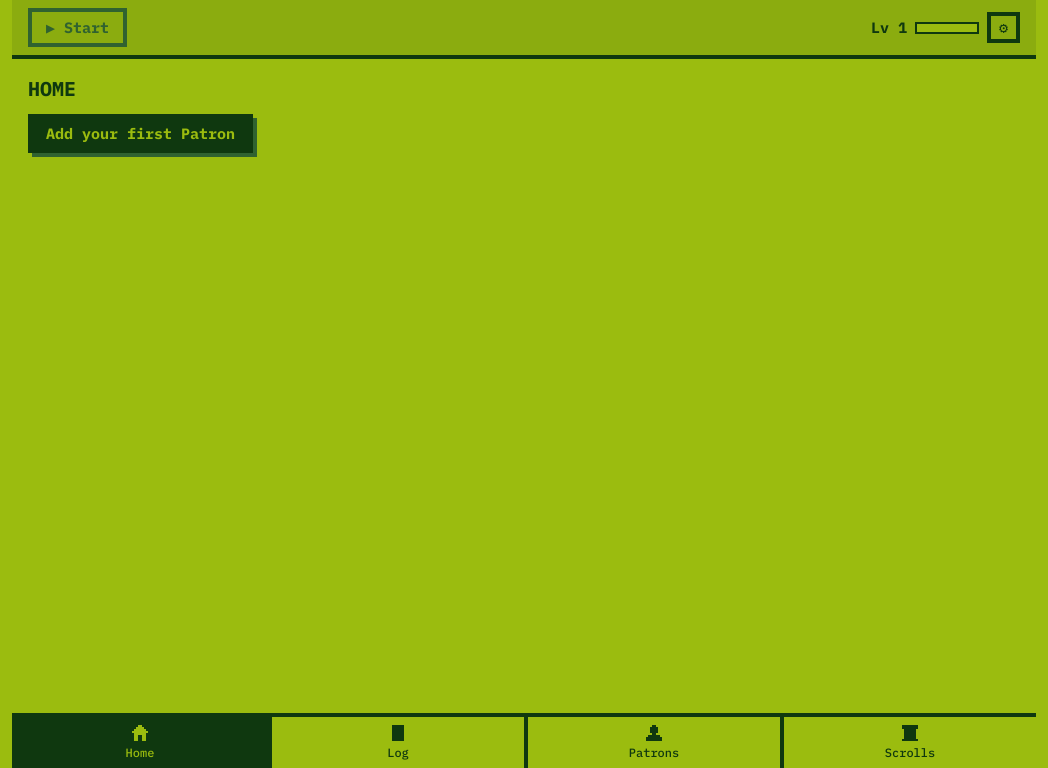
Settings › opens from the HUD gear as a pushed screen with Back
Click the button named "Settings".
click(1004, 28)  # box [987,12,1020,43]
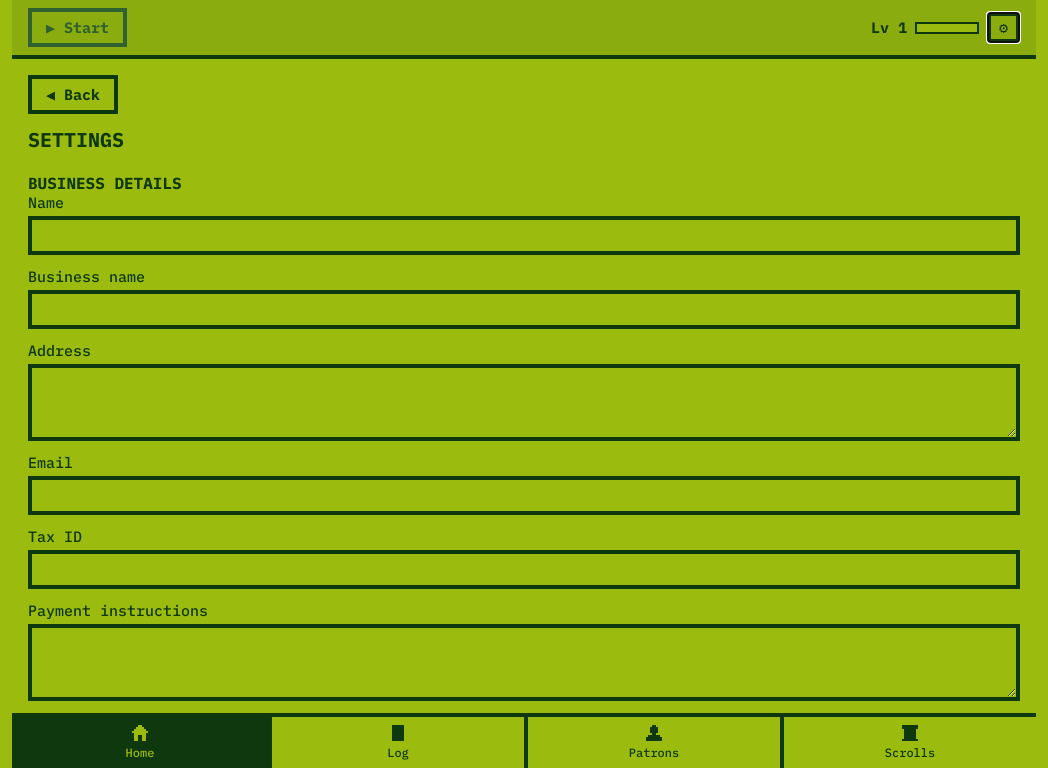
expect the heading "Settings" is shown: met, box [28,126,124,153]
Click the button "◀ Back".
click(73, 94)  # box [28,75,118,114]
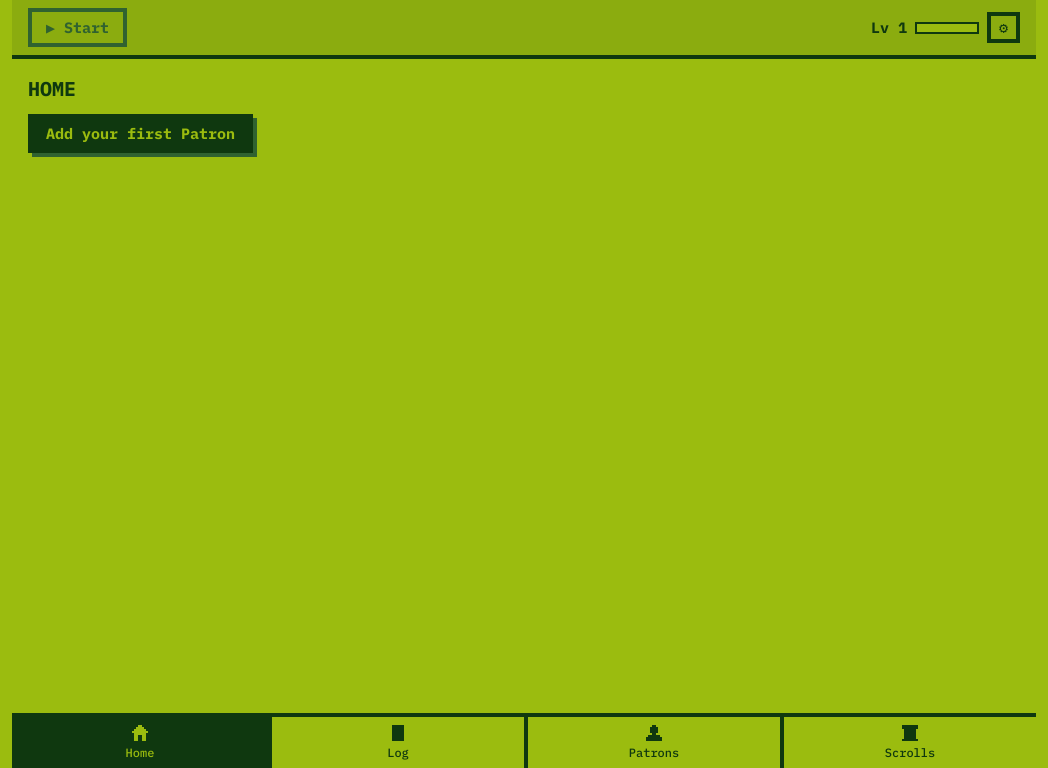
expect the heading "Home" is shown: met, box [28,75,76,102]
